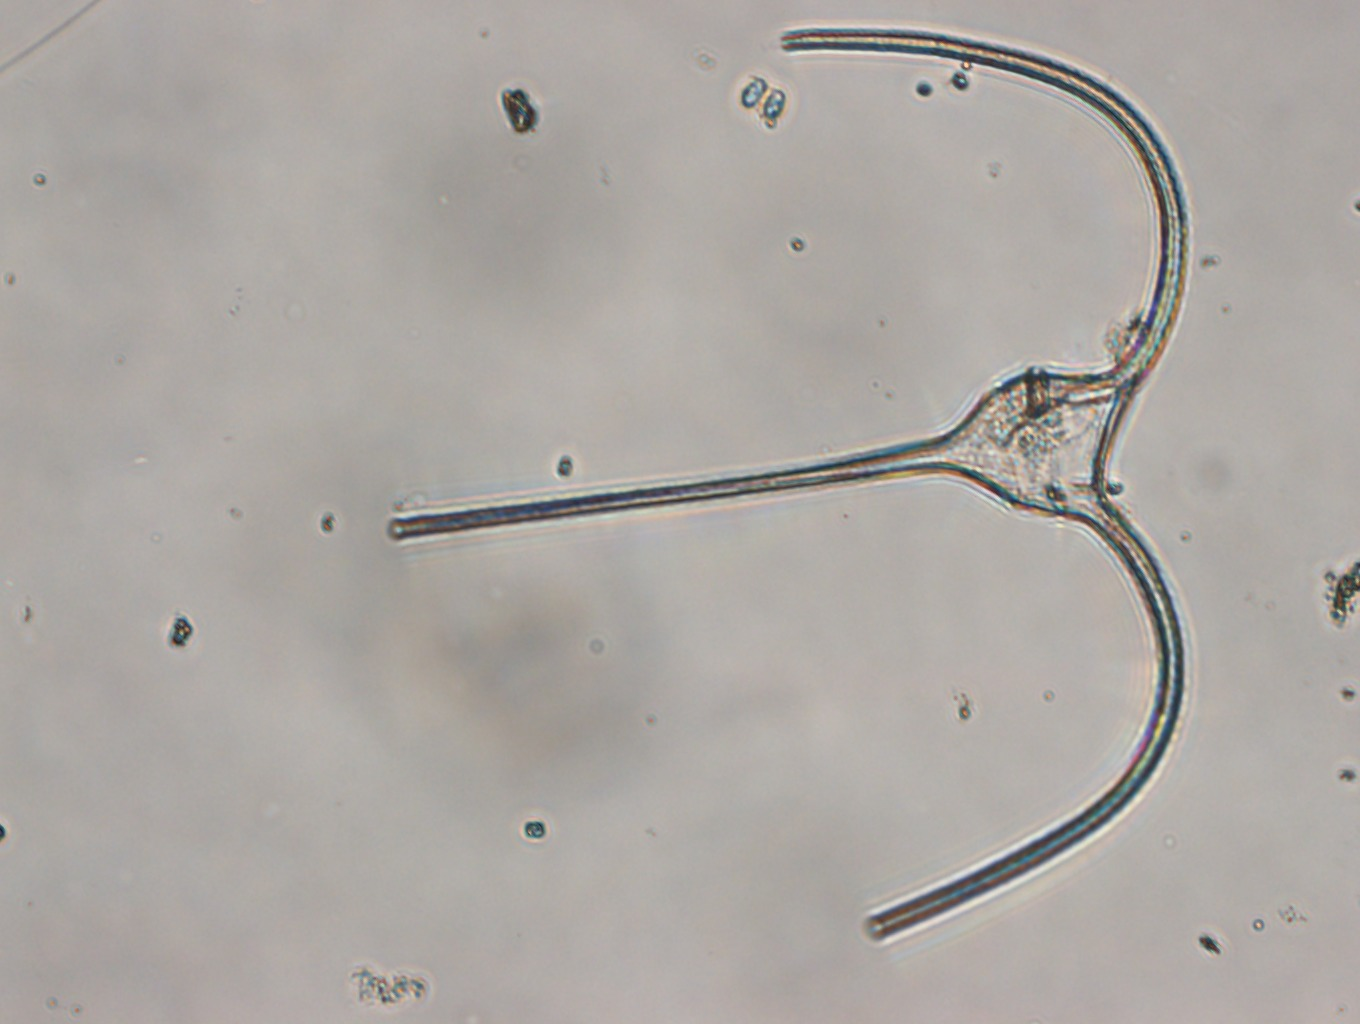ceratium trichoceros: (386, 20, 1196, 945)
